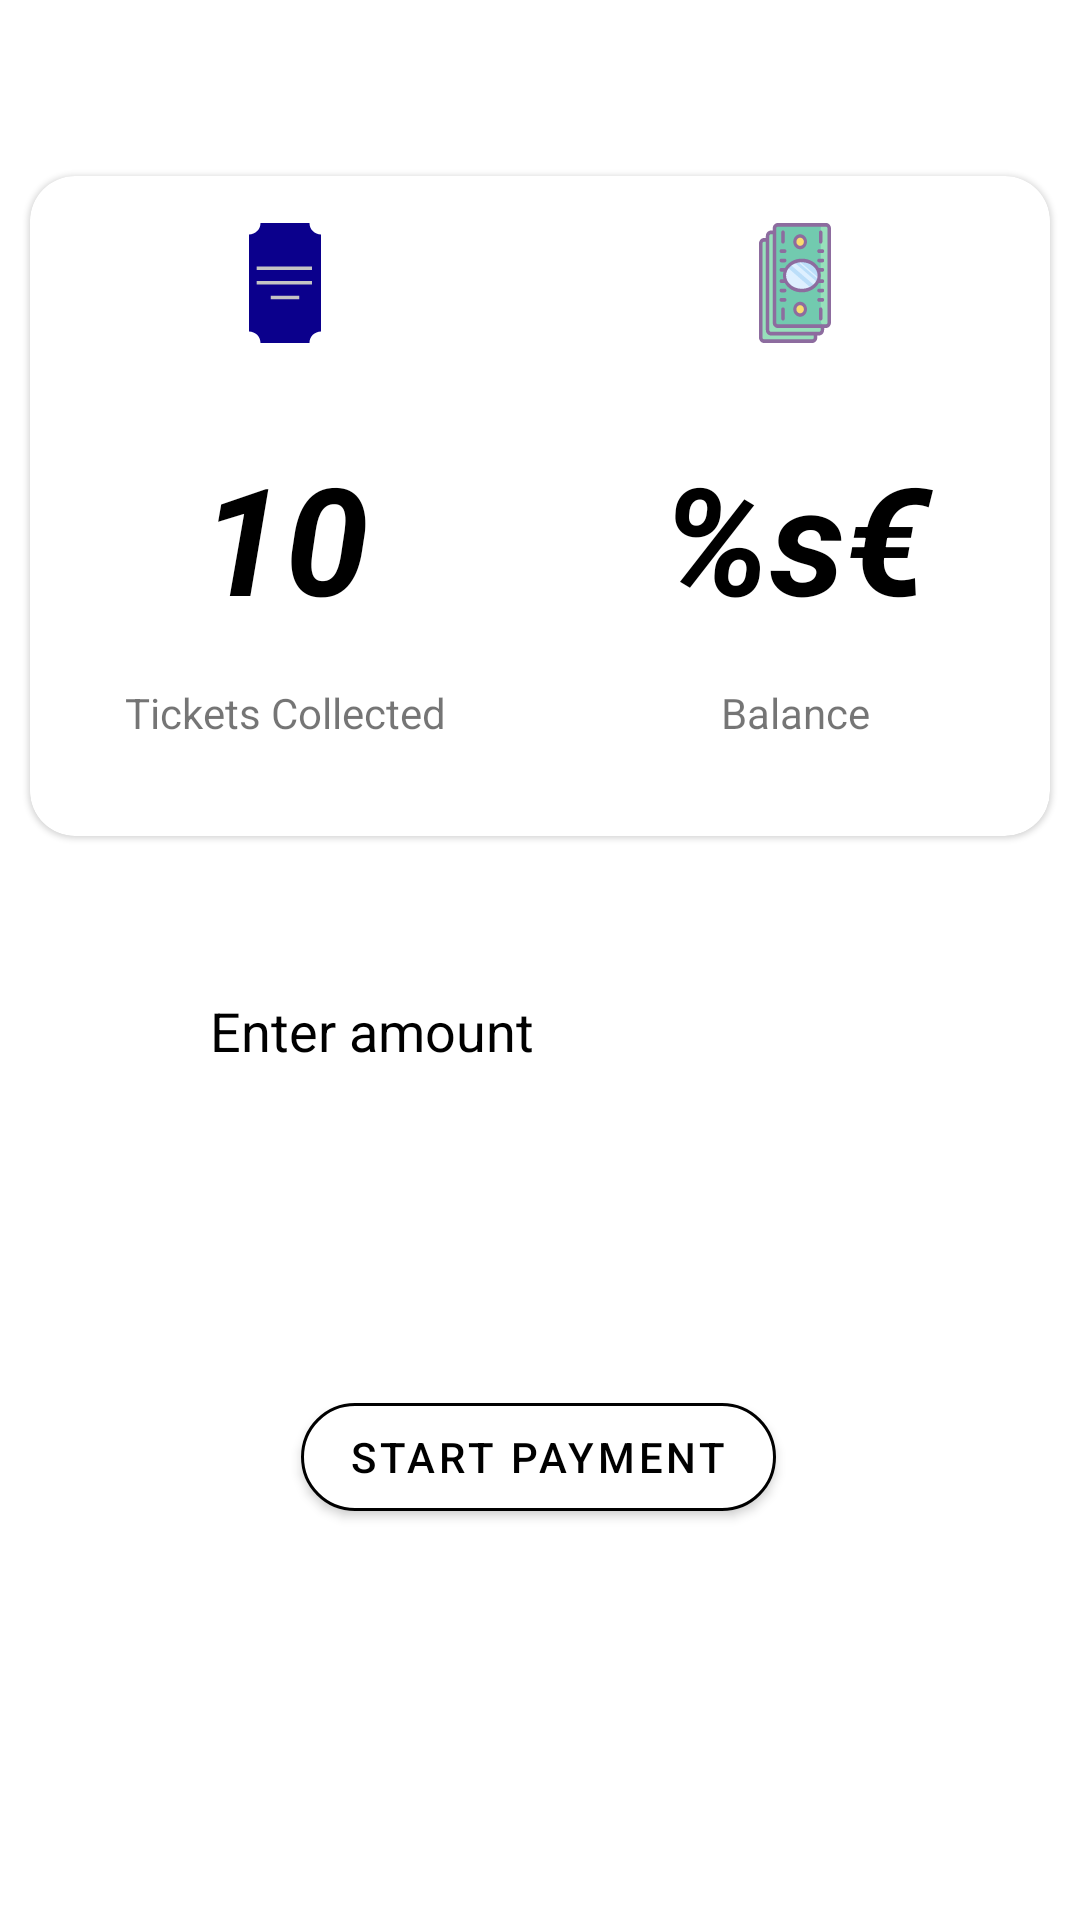

Where to tap for icons on this 1080x1920 app screen, as (x,y):
money: (795,283)
ticket: (285,283)
